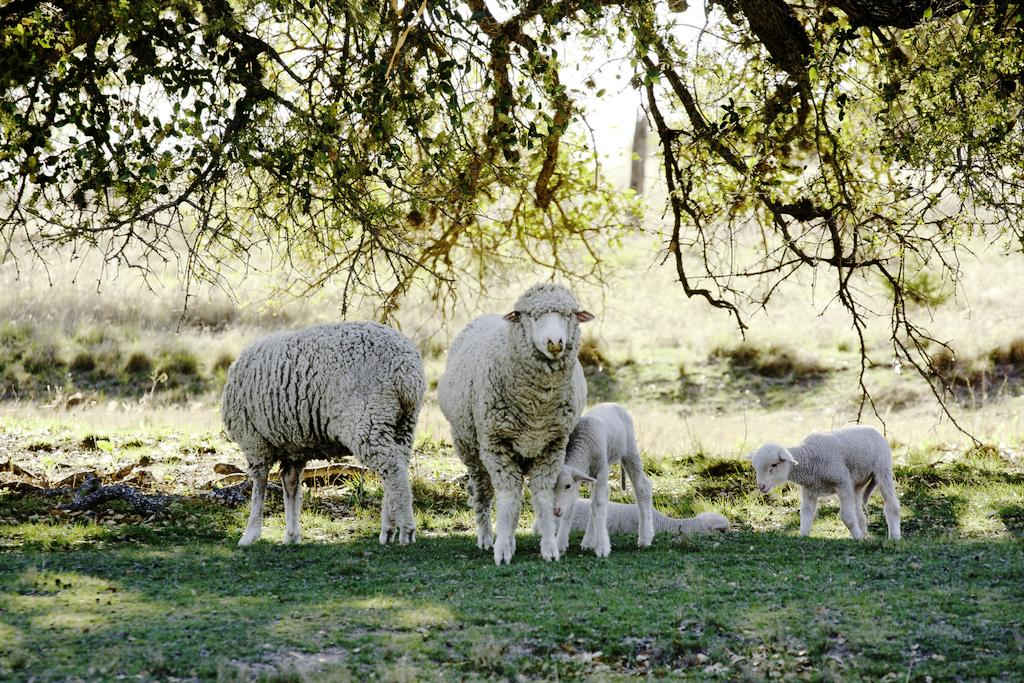Sheep: (436, 278, 596, 563), (222, 321, 420, 546), (745, 431, 904, 542), (556, 412, 650, 563), (536, 498, 726, 548)
